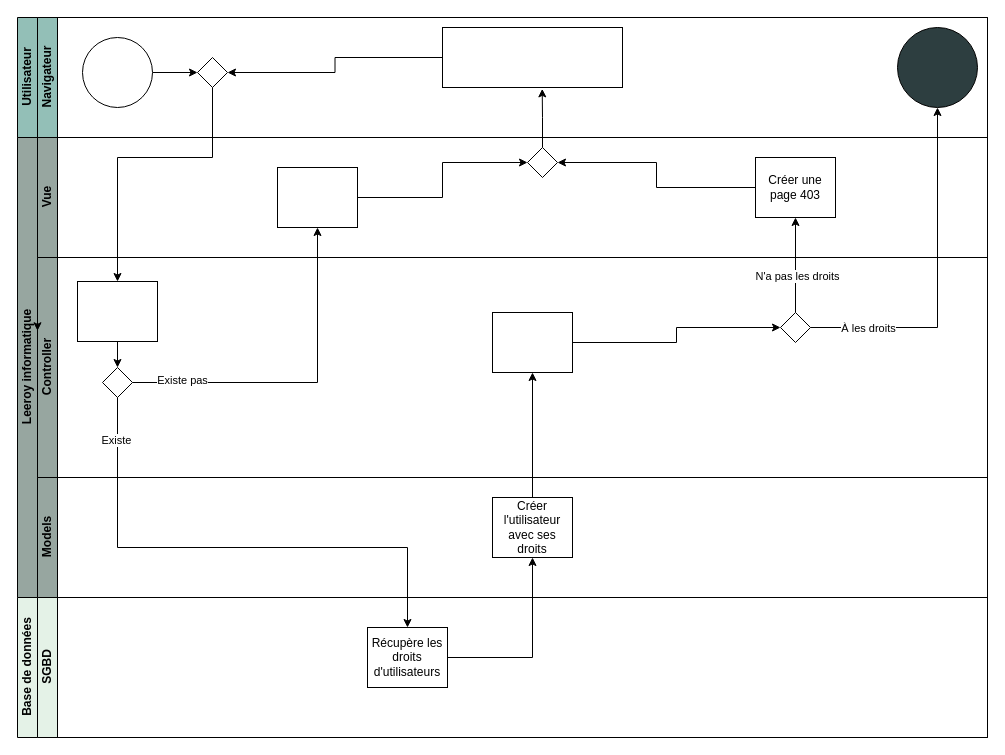
The diagram is 1005 pixels wide and 755 high, and some of its shapes have lost their labels. The centre of each missing label's shape, as x and y in pixels:
"Consulte une page" belongs at point (117, 72).
"Créer vue page 404" belongs at point (317, 197).
"Vois la page" belongs at point (937, 67).
"Vois la page d'erreur et le lien vers l'accueil" belongs at point (532, 57).
"Vérifie les droits d'accès" belongs at point (532, 342).
"Vérifie si existe" belongs at point (117, 311).
